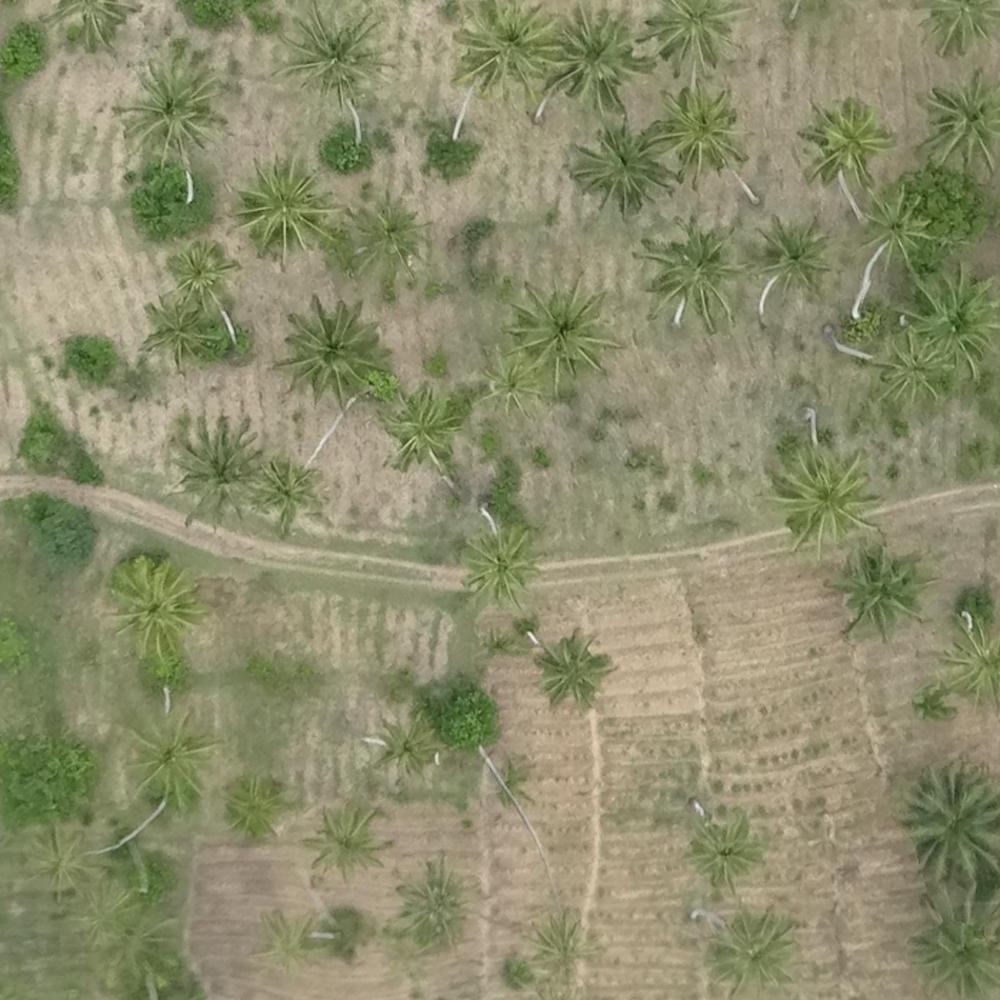Palm: (507, 277, 624, 381), (640, 216, 746, 323), (899, 765, 999, 878), (278, 296, 384, 400), (774, 444, 881, 546), (231, 156, 336, 257), (277, 2, 381, 96), (909, 884, 1000, 989), (552, 8, 648, 104), (103, 558, 201, 651), (655, 84, 751, 178), (120, 709, 211, 808), (571, 122, 675, 206), (171, 423, 264, 515), (124, 60, 216, 152), (911, 269, 1000, 364), (641, 1, 749, 79), (458, 5, 557, 90), (916, 75, 1000, 170), (800, 97, 893, 181), (837, 548, 925, 632), (20, 822, 102, 904), (711, 905, 796, 984), (455, 528, 542, 600), (752, 212, 829, 291), (310, 802, 390, 878), (384, 389, 460, 469), (351, 193, 428, 271), (855, 188, 931, 265), (874, 330, 953, 404), (534, 631, 614, 704), (401, 861, 470, 941), (250, 456, 324, 529), (686, 816, 760, 885), (140, 294, 214, 361), (526, 911, 592, 981), (371, 712, 445, 774), (162, 238, 232, 297), (475, 348, 540, 411), (217, 776, 284, 834)
